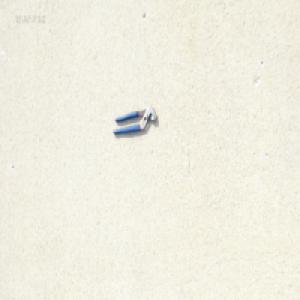Pliers: (112, 105, 157, 136)
